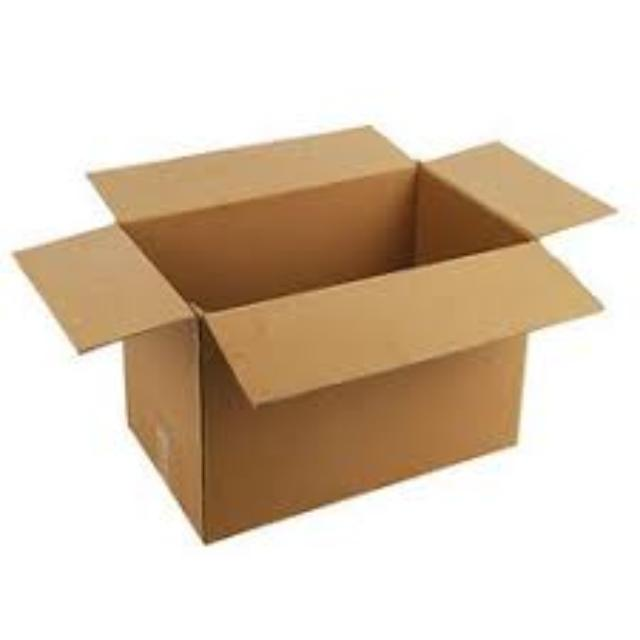cardboard paper: (11, 125, 606, 535)
